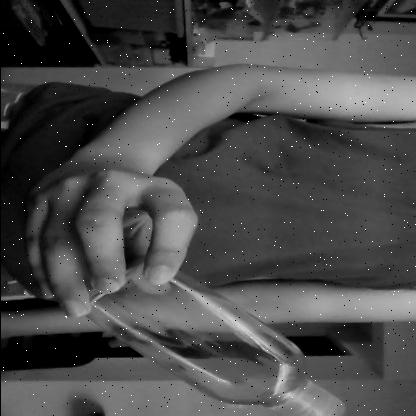Plastic Bottle: (77, 260, 354, 416)
